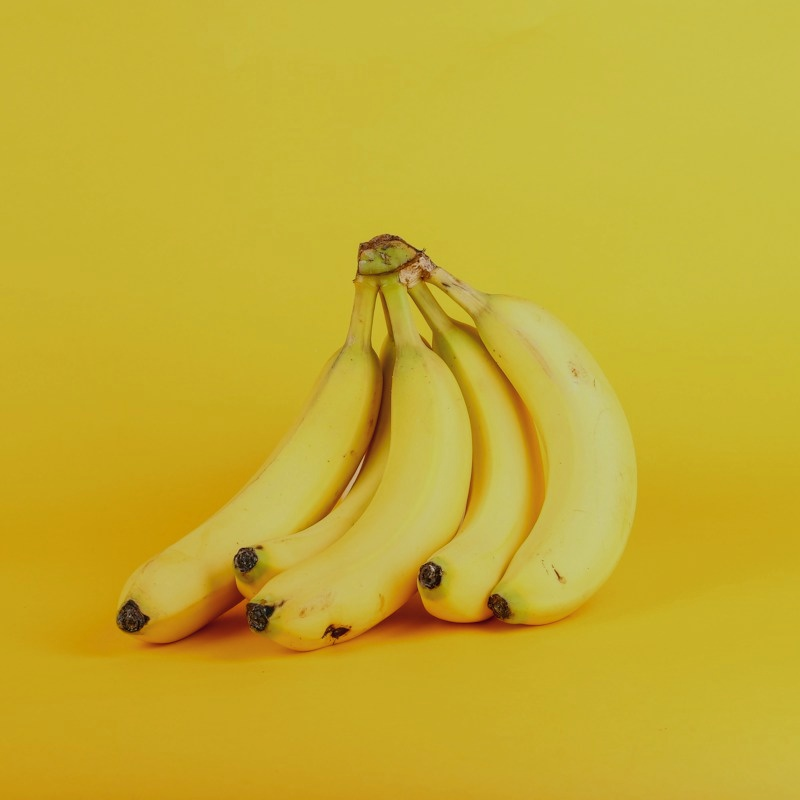banana peel: (125, 234, 647, 655)
